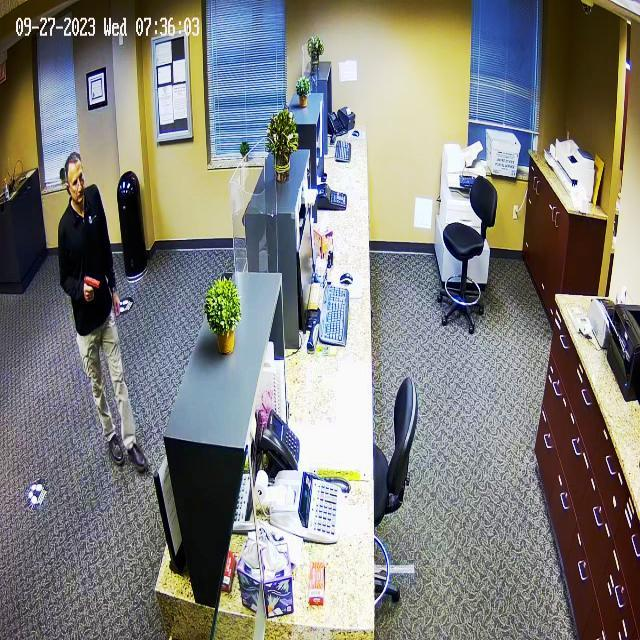Gun: (76, 266, 110, 306)
